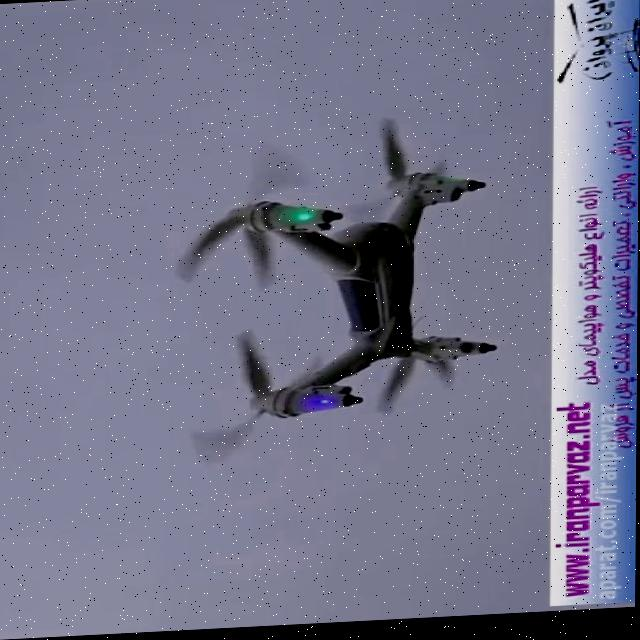drone: (166, 114, 504, 471)
